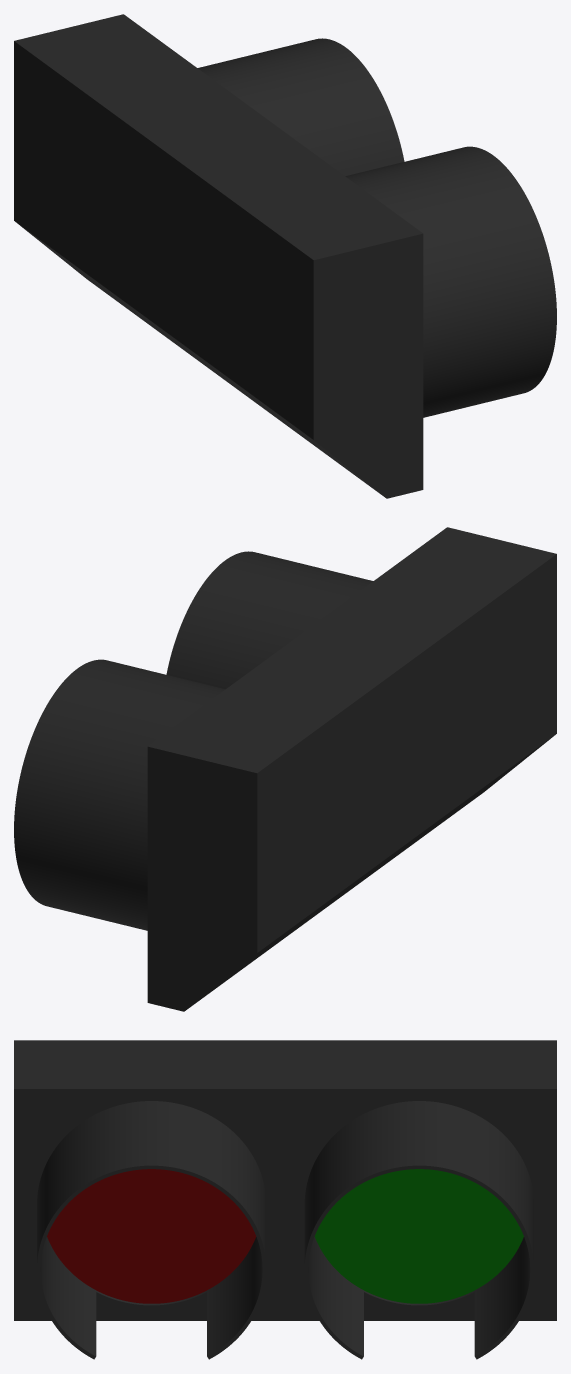
File: RoadTFLight_1type.FBX
The picture shows the model from 3 angles, top to bottom: view 1: azimuth 30°, elevation 25°; view 2: azimuth 150°, elevation 25°; view 3: azimuth 270°, elevation 25°; orthographic projection. The views are drawn at different scales.
Visible parts, largest first — view 1: RoadTFLight_1type; view 2: RoadTFLight_1type; view 3: RoadTFLight_1type.
Boxes of the visible parts, <box> form: RoadTFLight_1type: <box>14,14,556,498</box>; RoadTFLight_1type: <box>14,527,556,1011</box>; RoadTFLight_1type: <box>14,1040,556,1359</box>.
Size of the model in its own units: 35 by 33.5 by 71.
